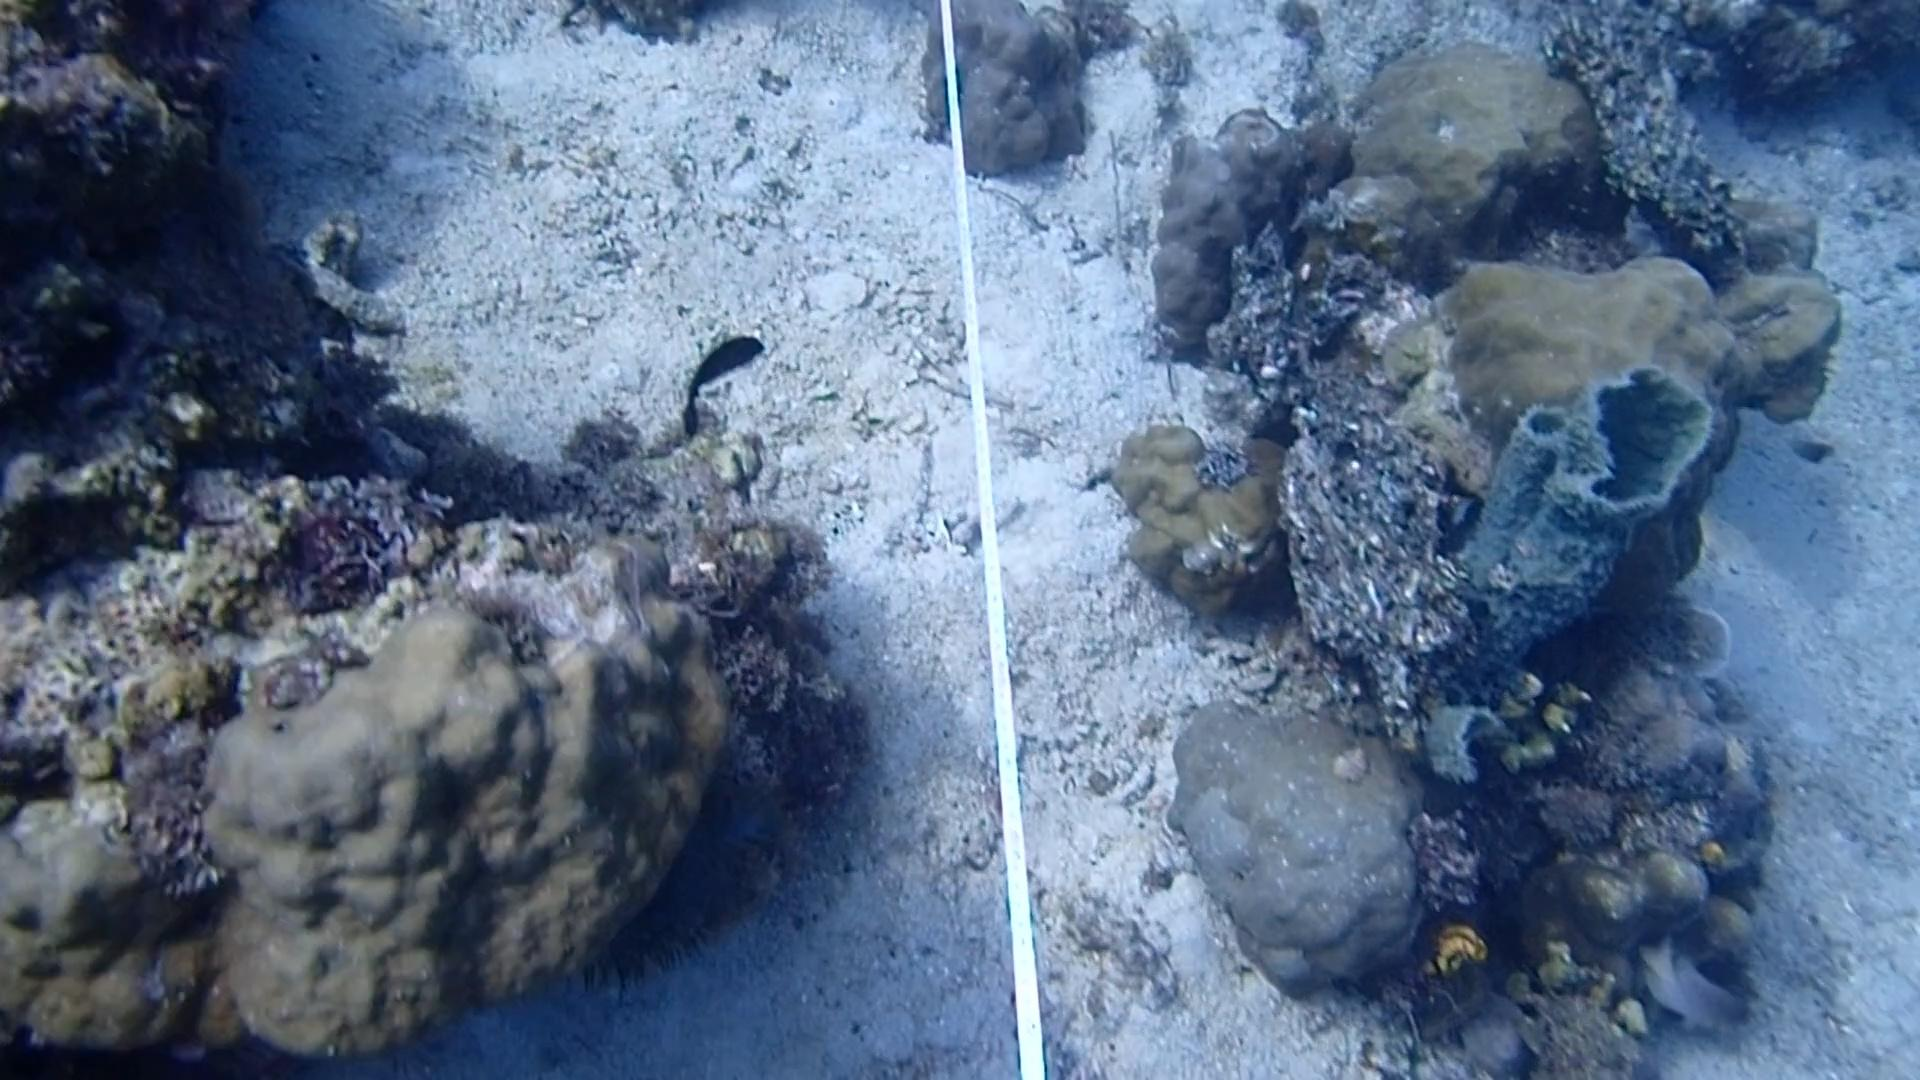Blue Nose Fish: (1633, 926, 1749, 1040)
Dark Fish: (666, 331, 782, 442)
